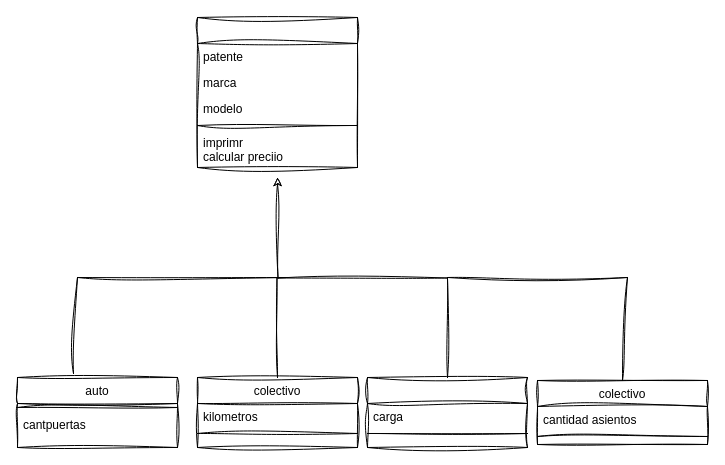
Image size: 725x465. Some labels were removed from this diagram. The shapes that lost their labels are listed below. From the top down, each one's box as (x1, y1, x2, y2) in pixels, then its label:
(196, 16, 358, 168): vehiculo
(366, 376, 528, 448): furgoneta
